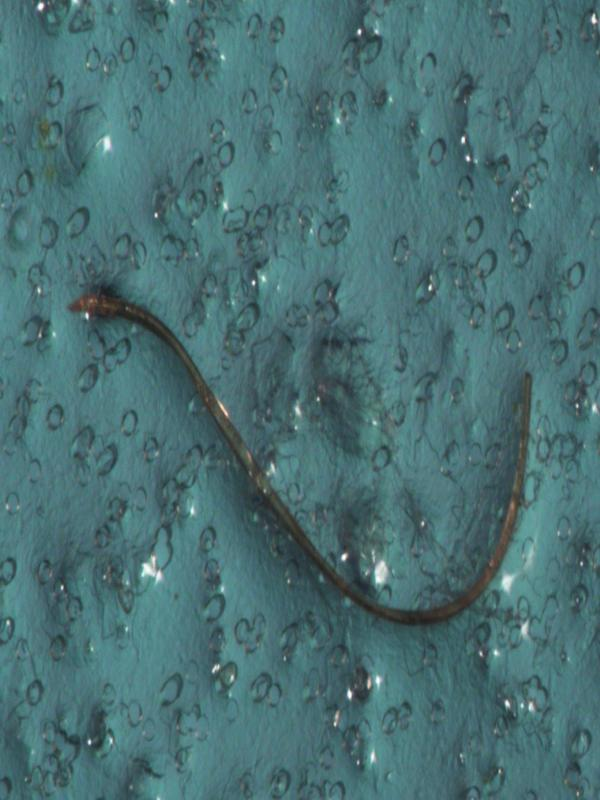microplastic: (1, 2, 598, 796), (66, 282, 533, 627)
